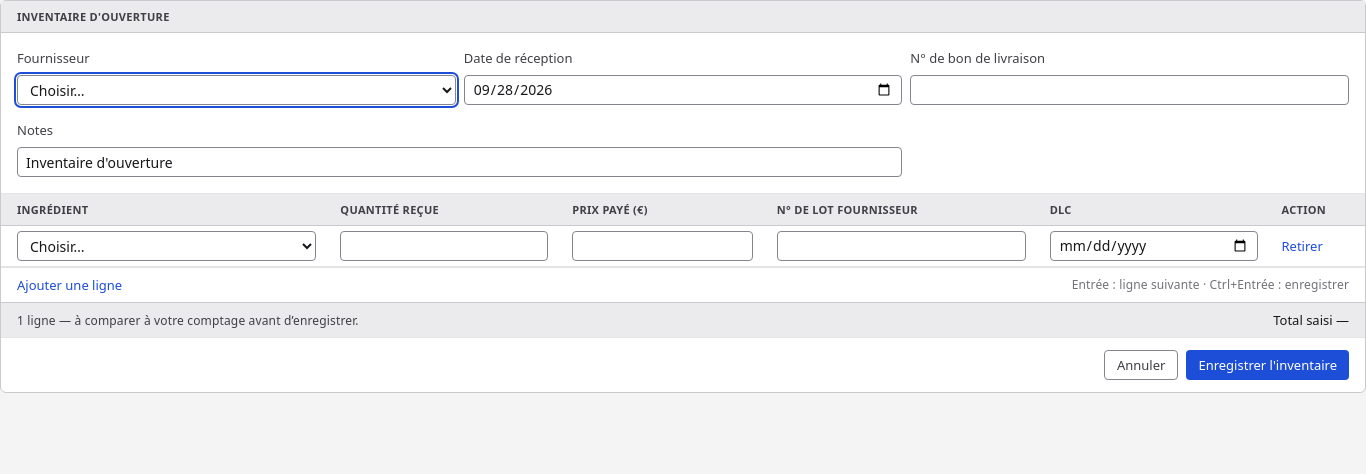
SaisieReception — refus de saisie : aucune pièce ne part incomplète › la variante « inventaire » dit AUTRE CHOSE sur le même refus — le geste n’est pas le même
Expected: the dropdown labelled "Fournisseur" is shown, [17,75,456,105]
Select "Farine de froment T55" in the dropdown named "Ingrédient, ligne 1". click: (167, 246)
box: [17,231,316,261]
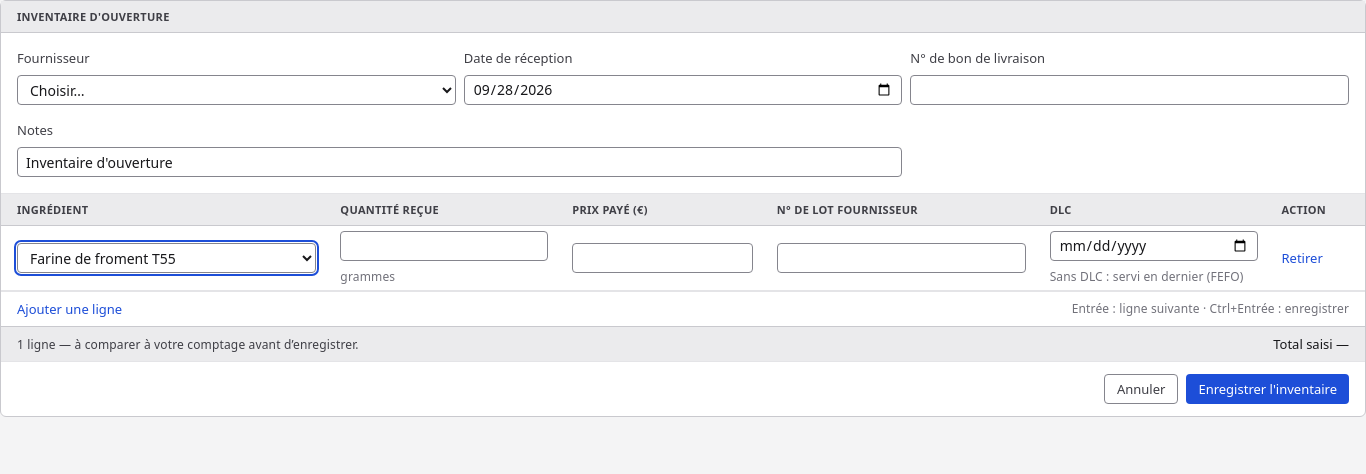
Type "25000" into the field named "Quantité reçue, ligne 1". click: (444, 246)
box: [340,231,548,261]
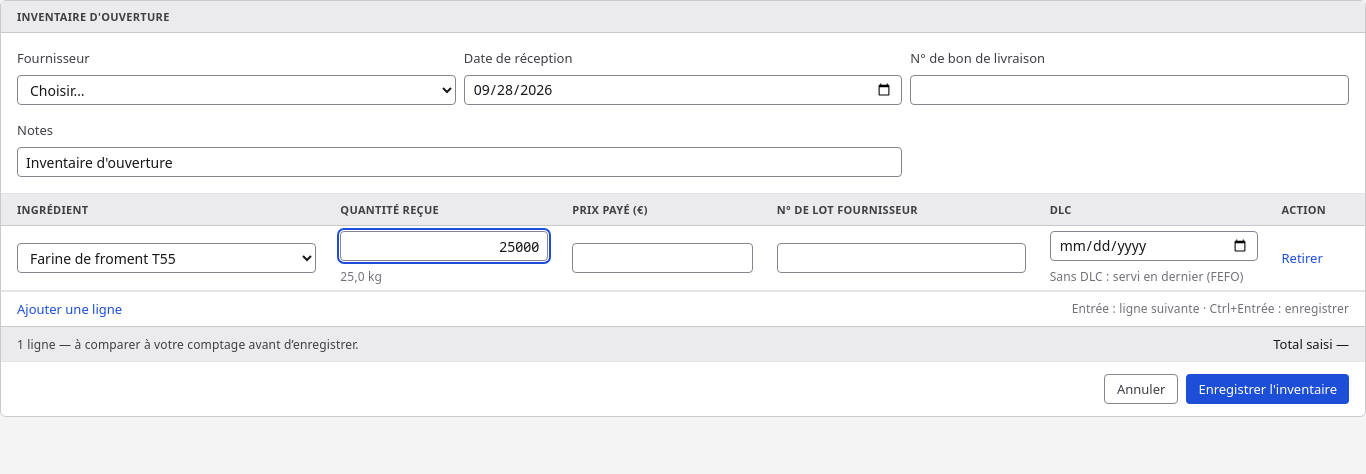
Type "18,75" into the field named "Prix payé pour la ligne 1, en euros". click: (662, 258)
box: [572,243,753,273]
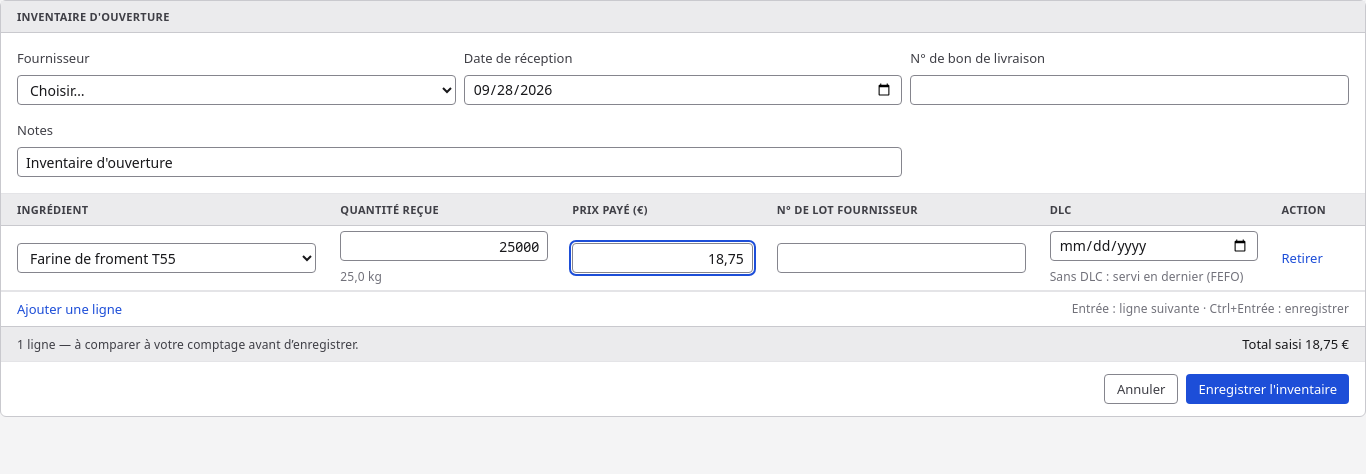
Type "LOT-2026-0731-A" into the field named "Numéro de lot fournisseur, ligne 1". click: (901, 258)
box: [777,243,1026,273]
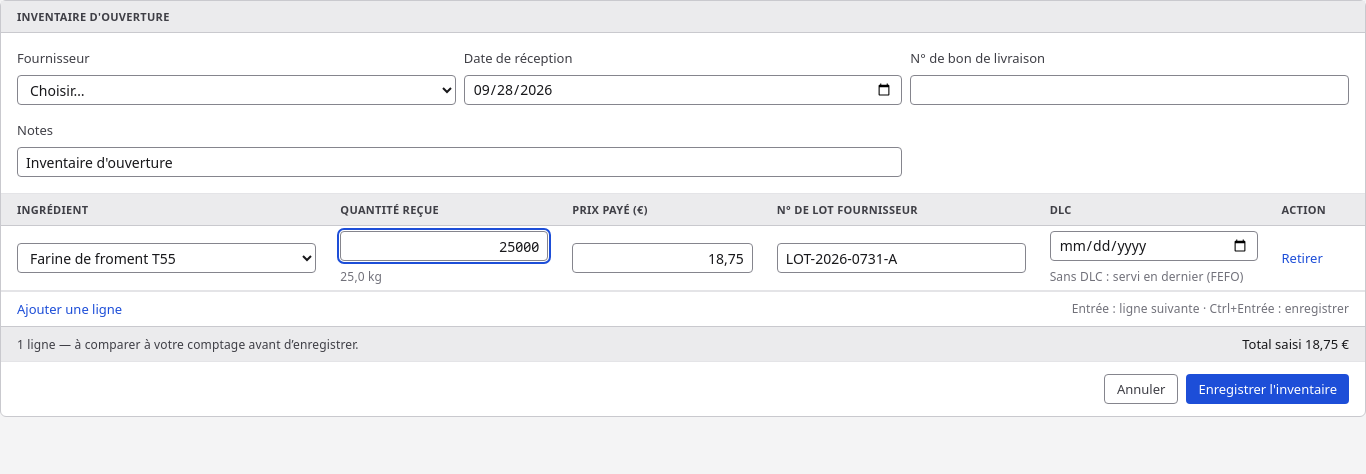
Type keys "{Control>}s{/Control}"
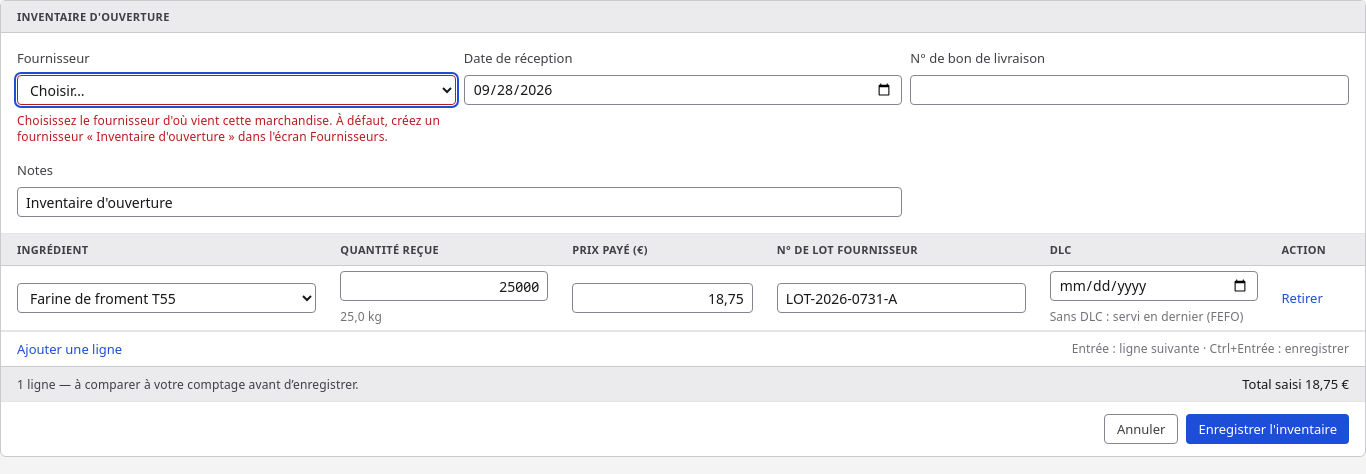
Expected: the text "créez un fournisseur « Inventaire d'ouverture » dans l'écran Fournisseurs" is shown, [17,112,440,145]
